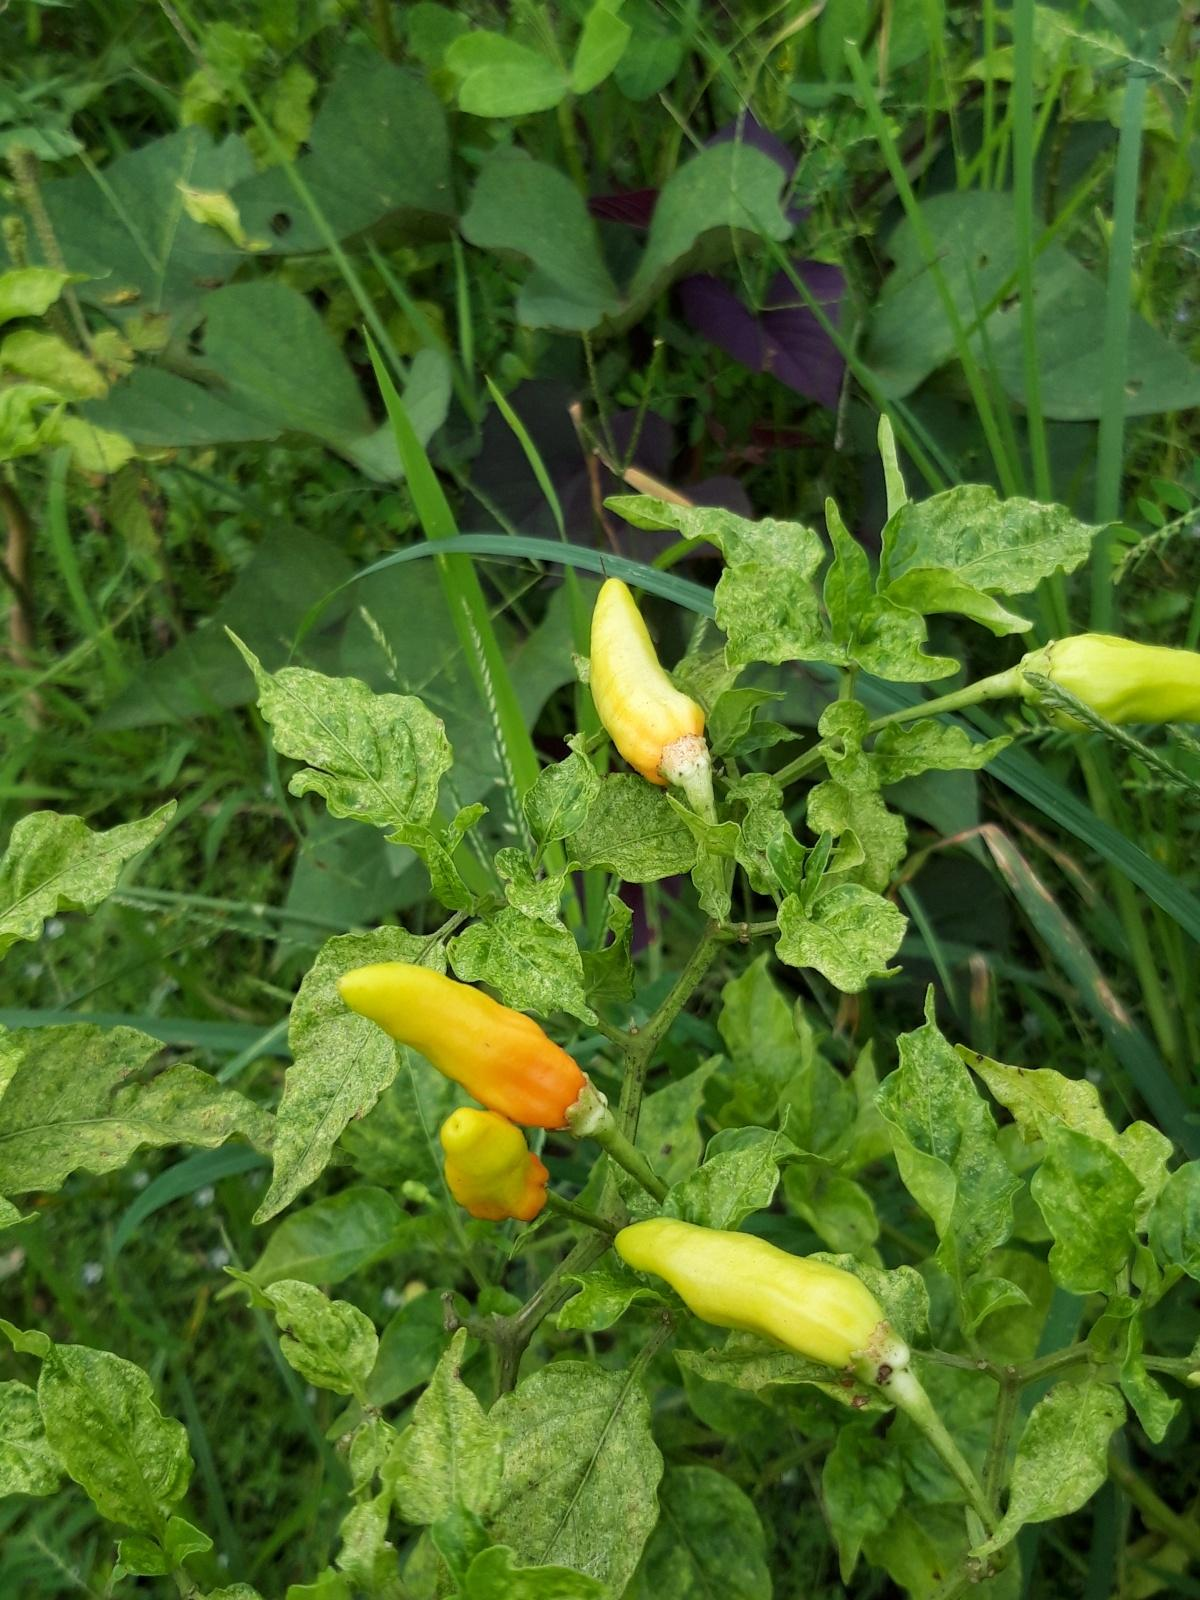cabai_normal: (338, 962, 586, 1129), (614, 1216, 886, 1368), (588, 577, 712, 787), (1032, 633, 1200, 736), (440, 1108, 548, 1222)
